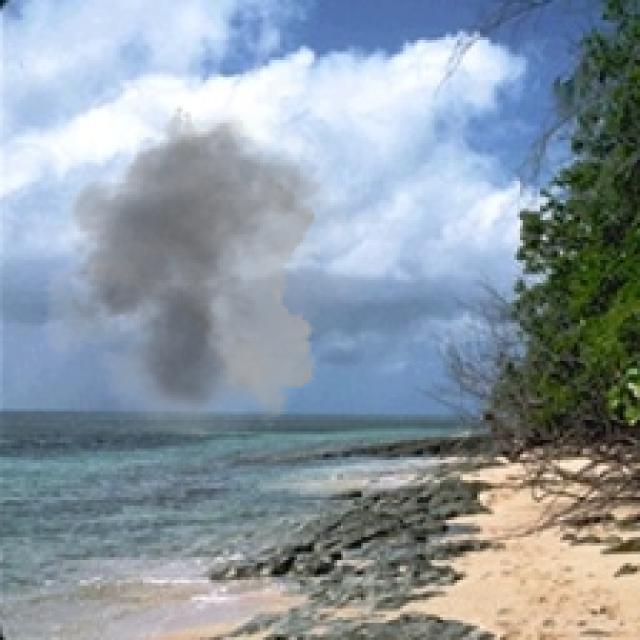smoke: (26, 94, 388, 440)
